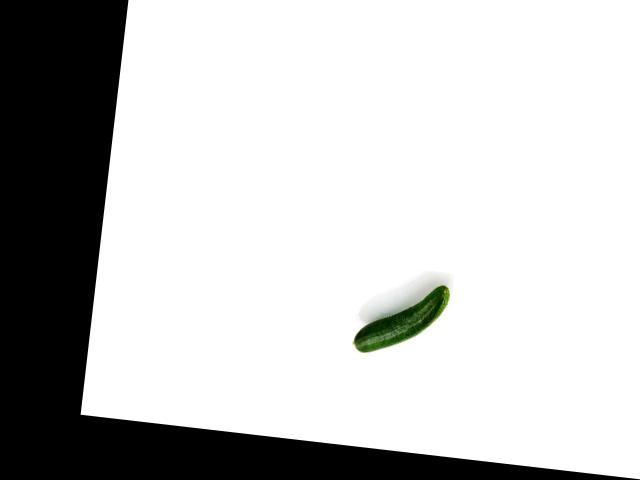cucumber: (352, 275, 450, 360)
